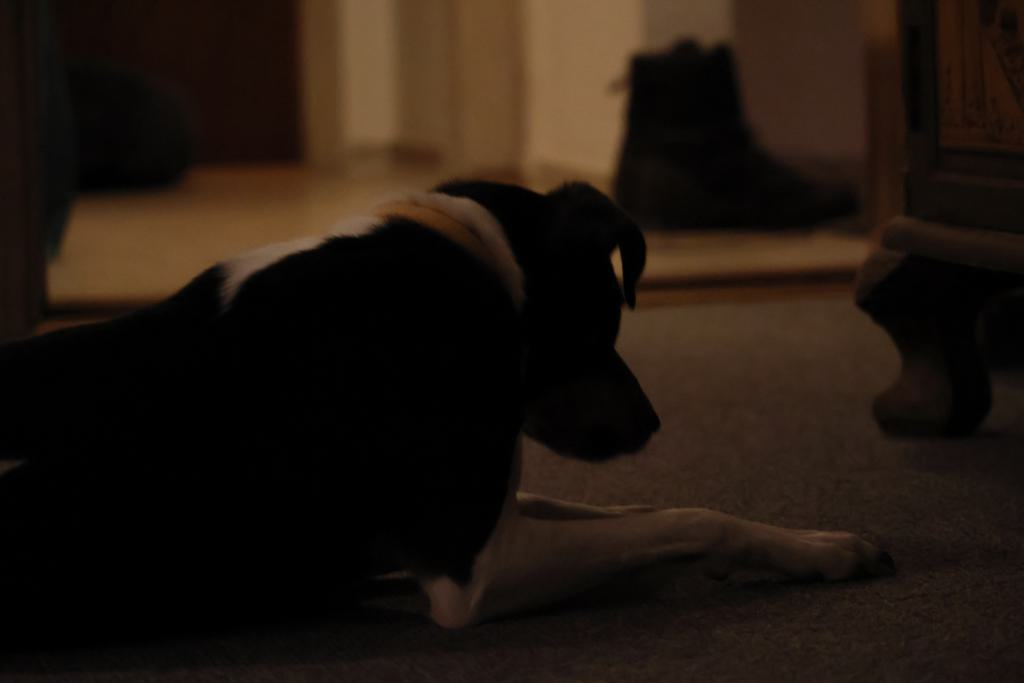Dog: (0, 163, 899, 683)
